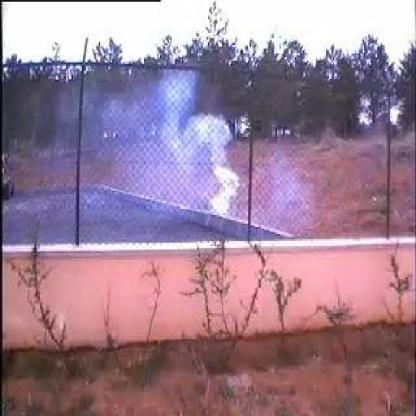-: (82, 66, 250, 222)
